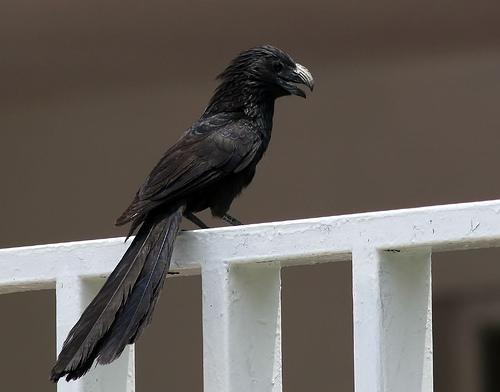004.Groove_billed_Ani: (49, 45, 317, 386)
